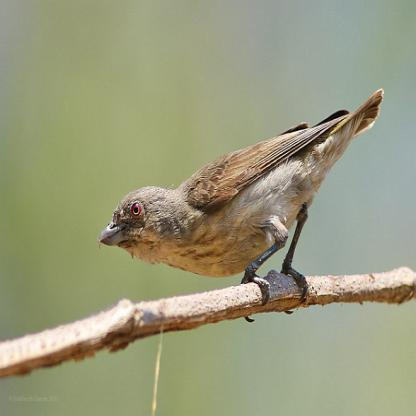Burung: (97, 77, 386, 296)
